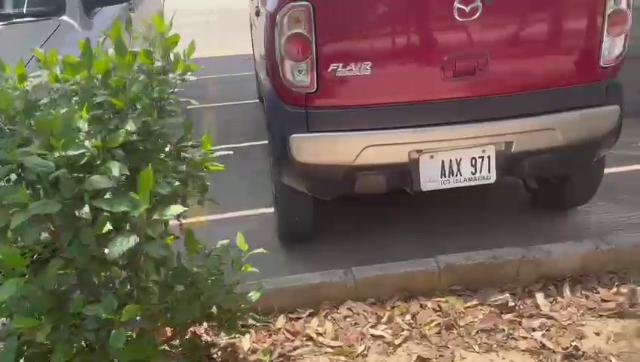plate: (416, 146, 499, 192)
